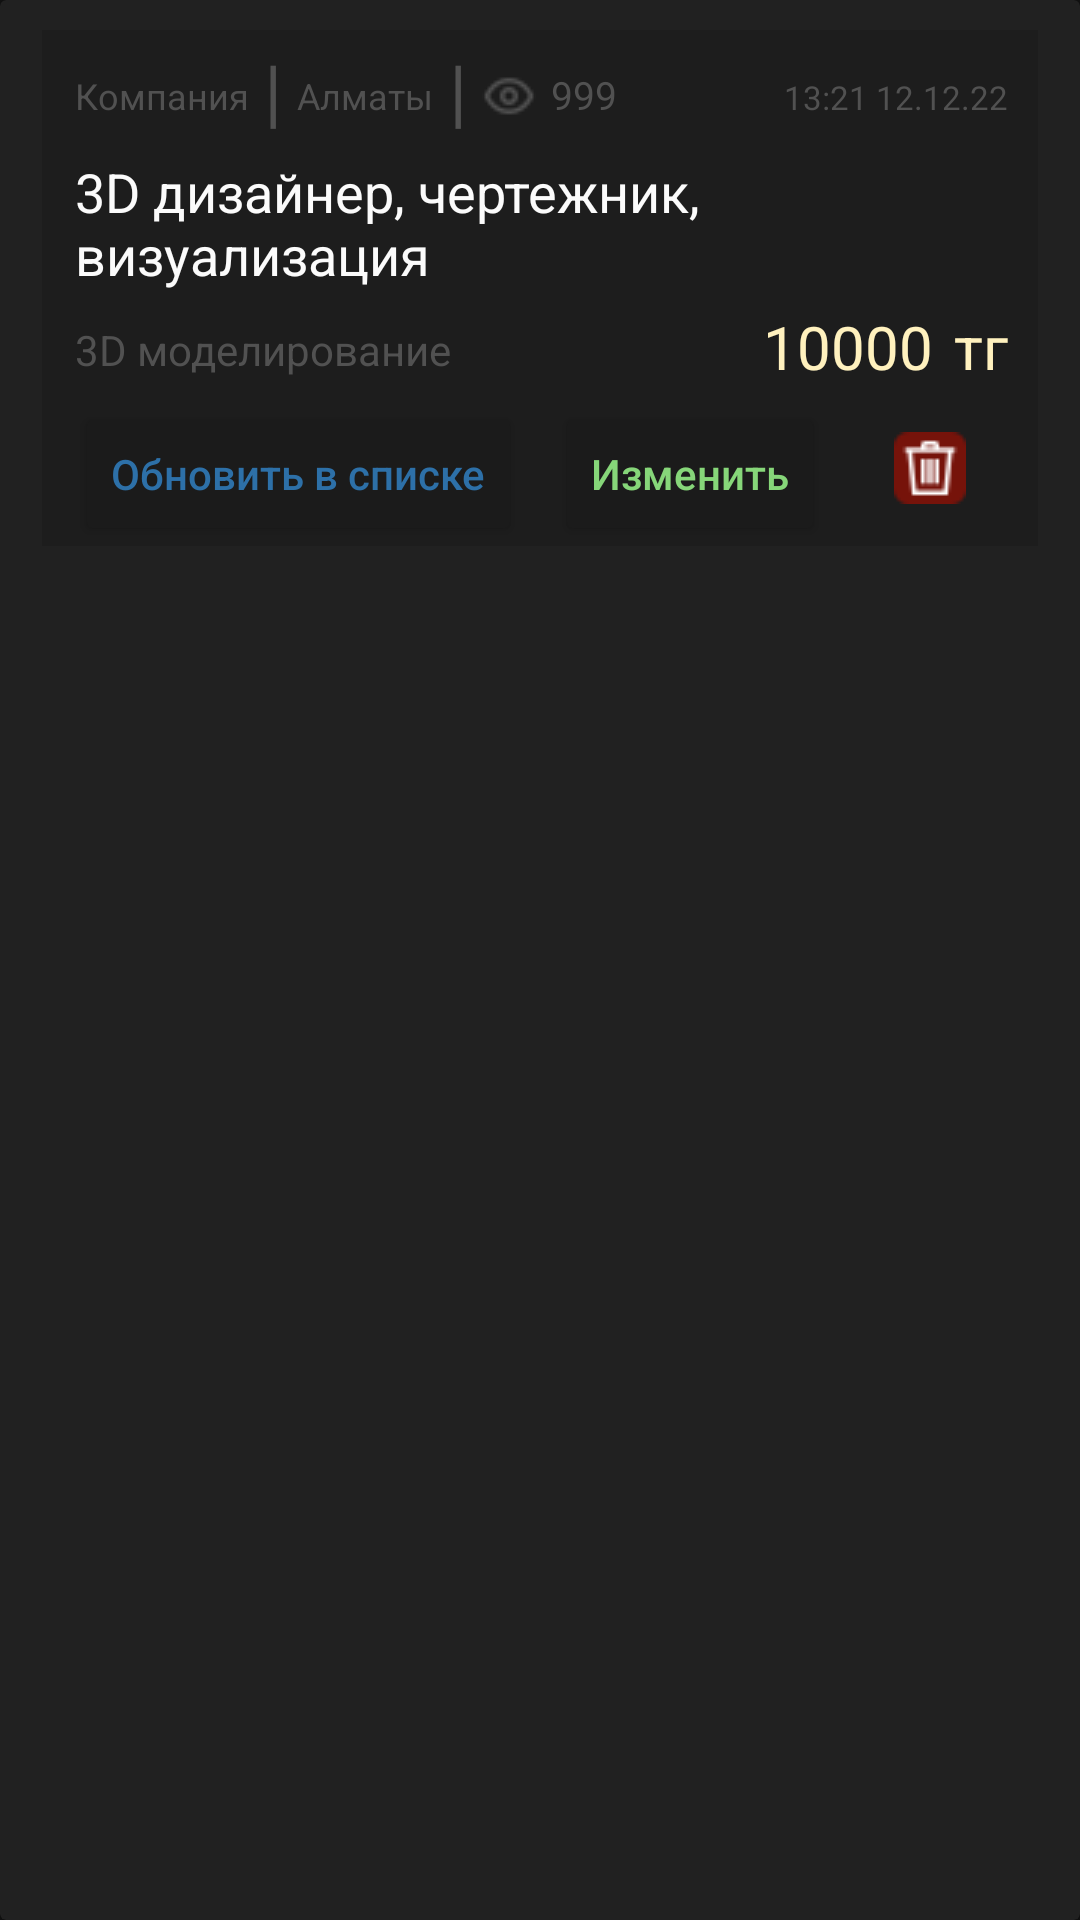

Point at icon controls on the screen. Image size 1080×1920, points as [x,y].
delete: [930,468]
open eye: [509,96]
